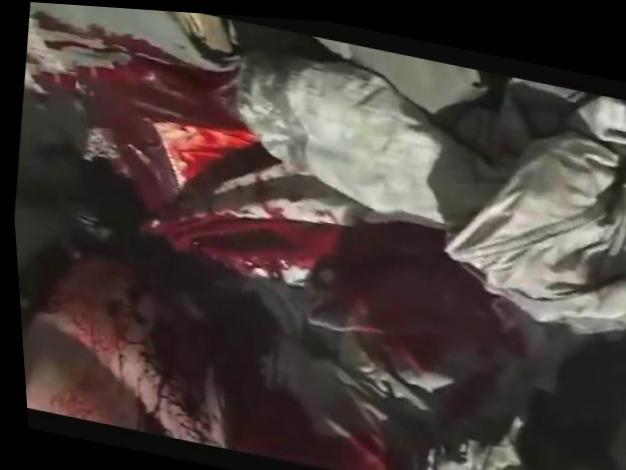Fire: (20, 14, 500, 470)
